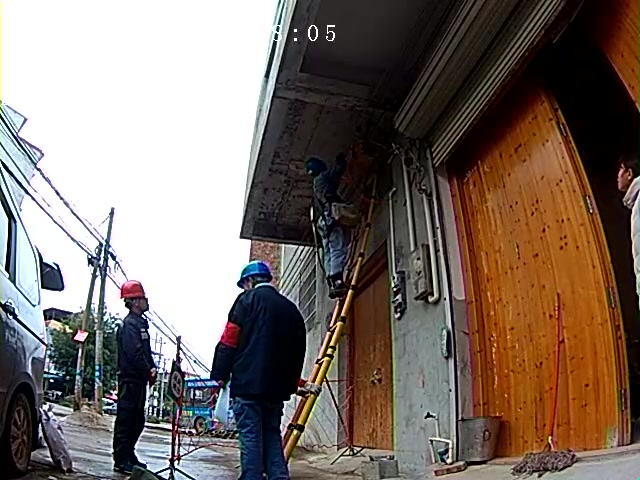halt: (239, 264, 277, 294), (121, 282, 152, 316), (307, 159, 332, 181)
